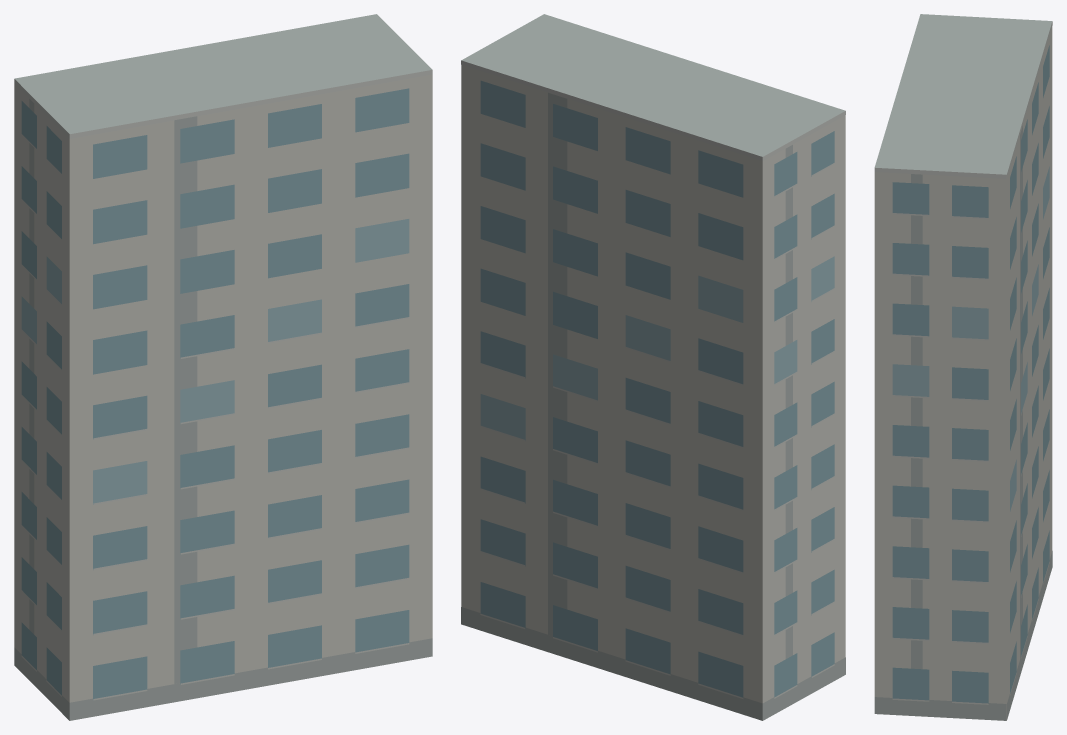
Rendered from residential-66012a2f-1764-4da8-aad3-ee9989353696.glb.
3 views of the same model, side by side, from view 1: azimuth 30°, elevation 25°; view 2: azimuth 150°, elevation 25°; view 3: azimuth 270°, elevation 25° (orthographic). The views are drawn at different scales.
Visible parts, largest first — view 1: residential-66012a2f-1764-4da8-aad3-ee9989353696.tmp; view 2: residential-66012a2f-1764-4da8-aad3-ee9989353696.tmp; view 3: residential-66012a2f-1764-4da8-aad3-ee9989353696.tmp.
Part boxes in pixels (x1=…): residential-66012a2f-1764-4da8-aad3-ee9989353696.tmp: x1=14, y1=14, x2=432, y2=720; residential-66012a2f-1764-4da8-aad3-ee9989353696.tmp: x1=461, y1=14, x2=845, y2=720; residential-66012a2f-1764-4da8-aad3-ee9989353696.tmp: x1=874, y1=14, x2=1052, y2=720.
Size of the model in its own units: 19.57 by 31 by 9.16.
